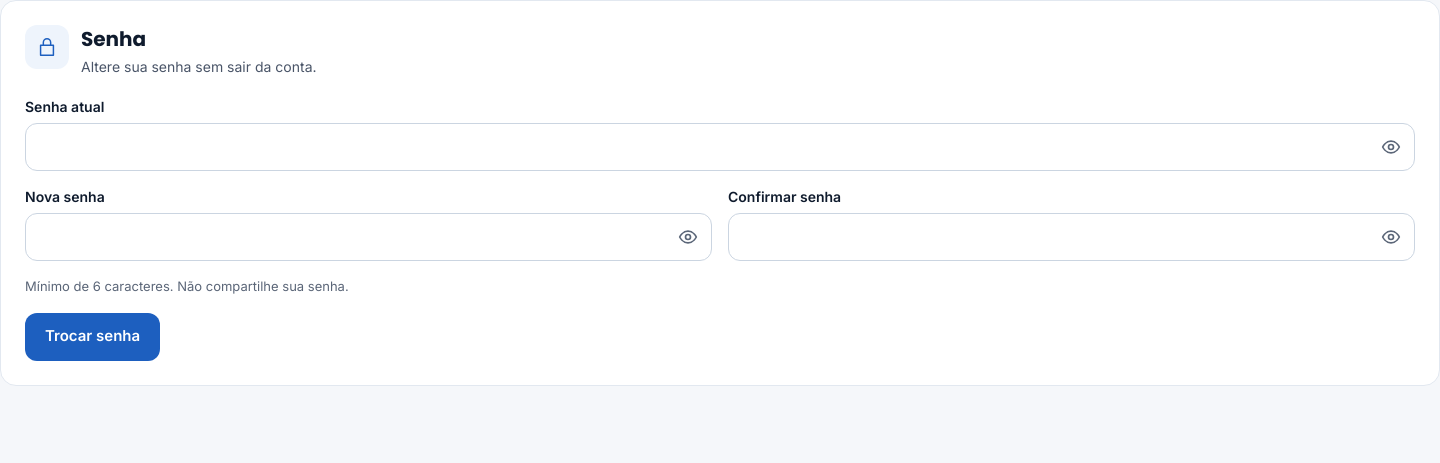
Test case: erro mantém rascunho e mensagem exata
The width and height of the screenshot is (1440, 463).
Type "atual123" into the password field labelled "Senha atual" at (720, 147), box [25, 123, 1415, 171]
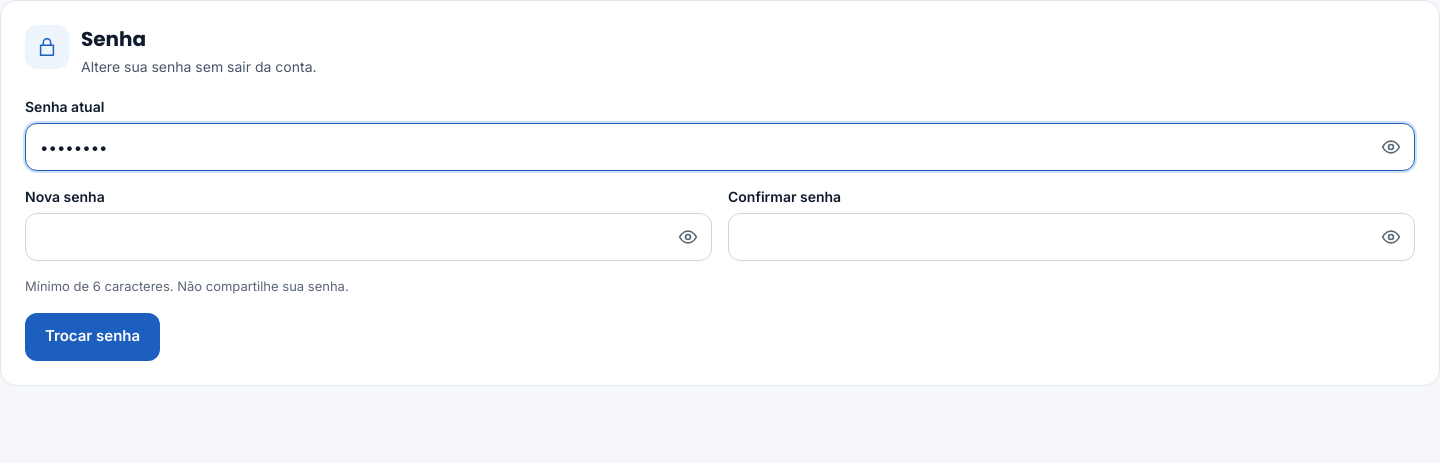
Type "nova123" into the password field labelled "Nova senha" at (368, 237), box [25, 213, 712, 261]
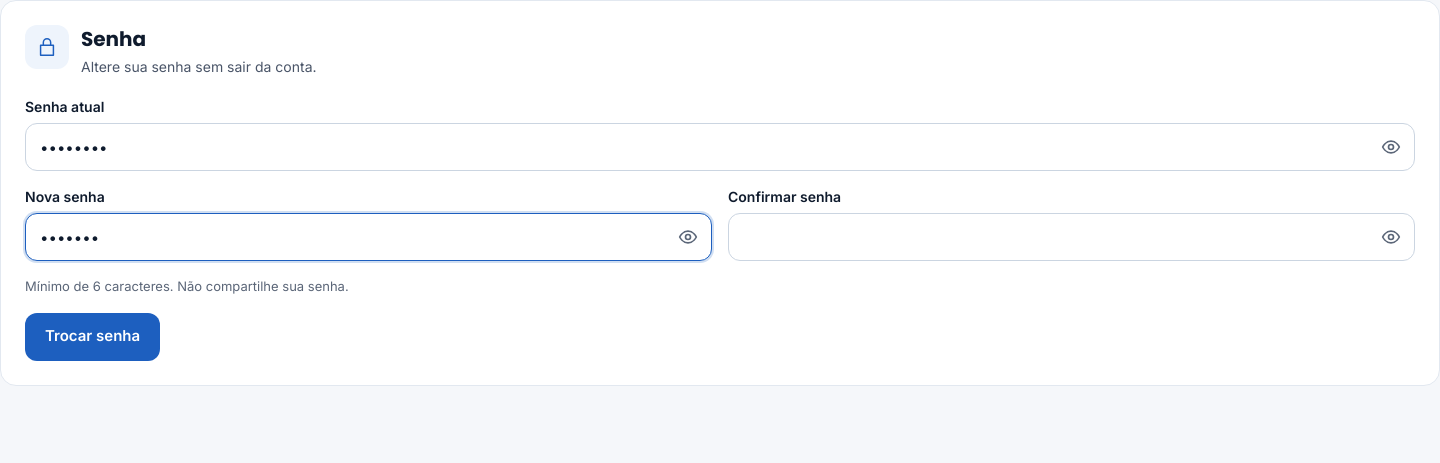
Type "nova123" into the password field labelled "Confirmar senha" at (1072, 237), box [728, 213, 1415, 261]
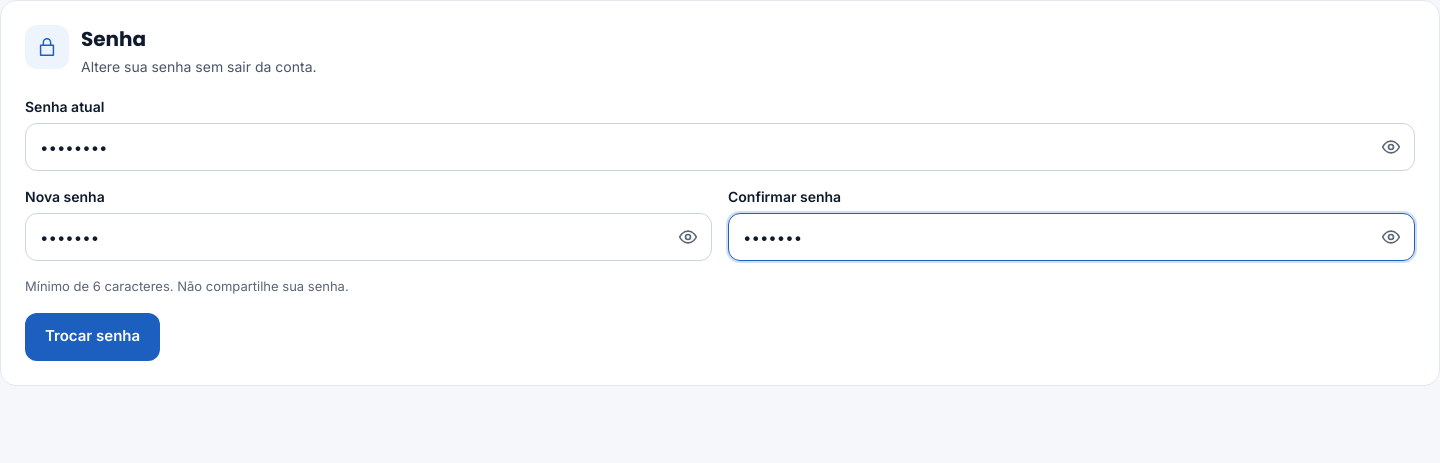
Click the button "Trocar senha" at (93, 336), box [25, 312, 160, 360]
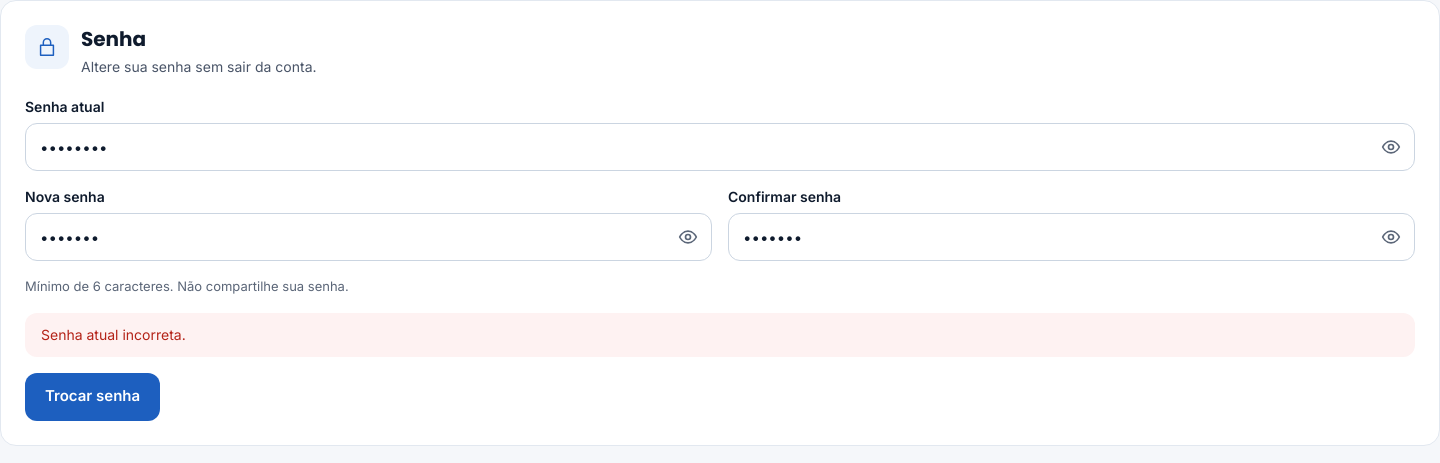
Expected: the message reads "Senha atual incorreta.", [41, 326, 186, 342]
